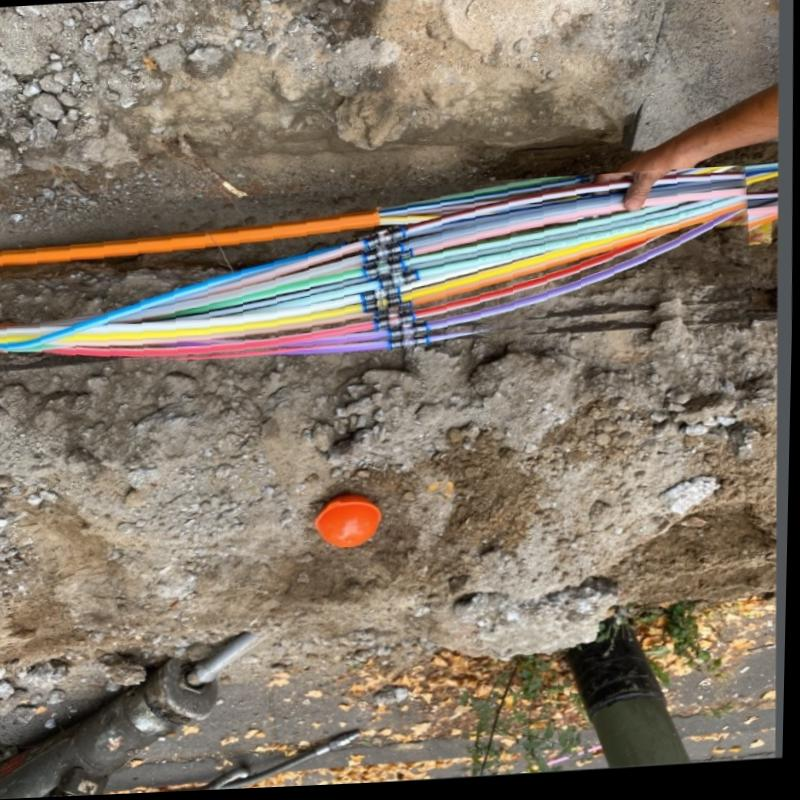Kugelmarker: (319, 497, 381, 551)
Orang-Speednetrohrchen: (0, 172, 749, 355)
